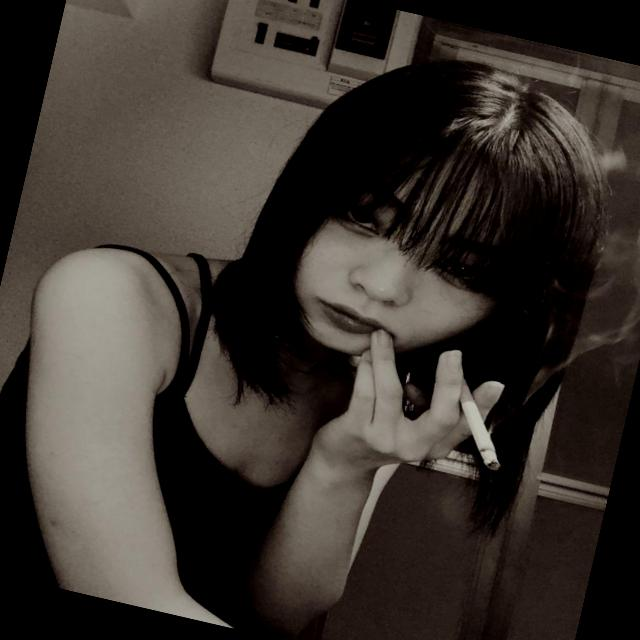cigarette: (411, 360, 558, 513)
